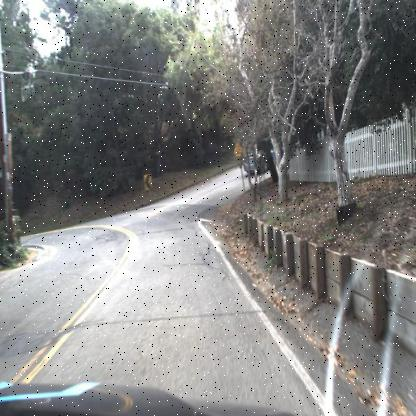car: (242, 142, 280, 178)
